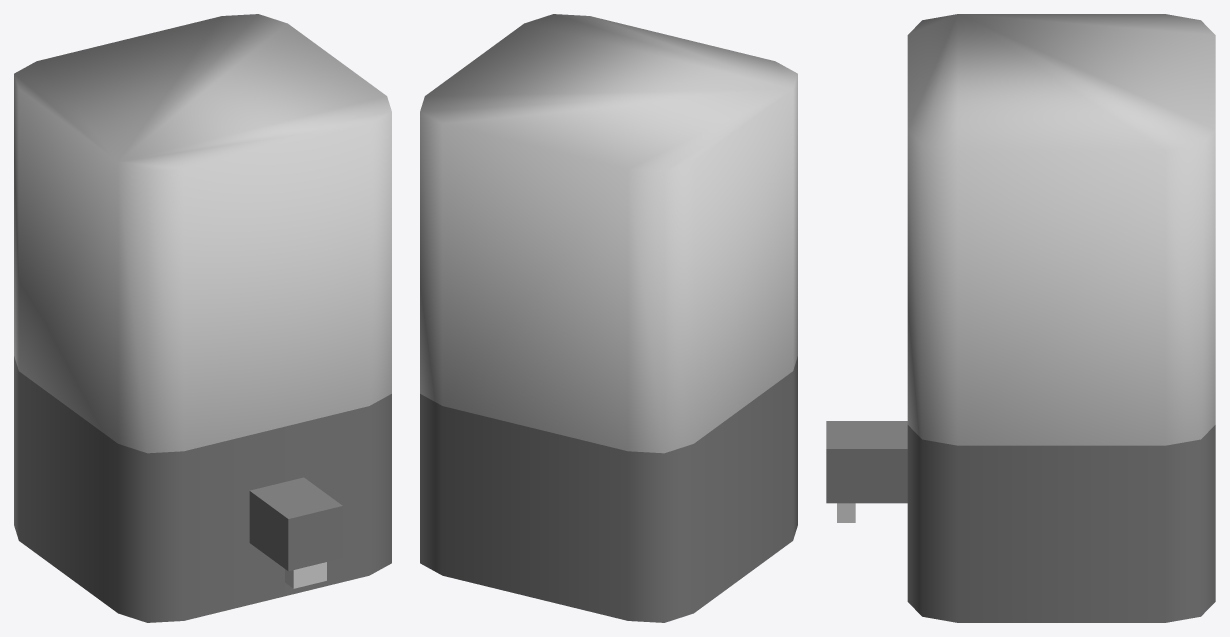
Rendered from AlcoholDisp_1.fbx.
The picture shows the model from 3 angles, left to right: view 1: azimuth 30°, elevation 25°; view 2: azimuth 150°, elevation 25°; view 3: azimuth 270°, elevation 25°; orthographic projection. The views are drawn at different scales.
Parts seen in each view (by area): view 1: AlcoholDisp_1; view 2: AlcoholDisp_1; view 3: AlcoholDisp_1.
Part boxes in pixels (x1=…): AlcoholDisp_1: x1=14, y1=14, x2=391, y2=622; AlcoholDisp_1: x1=420, y1=14, x2=797, y2=622; AlcoholDisp_1: x1=826, y1=14, x2=1215, y2=622.
Bounding box in the file's own units: 17.71 × 28.42 × 21.26.
